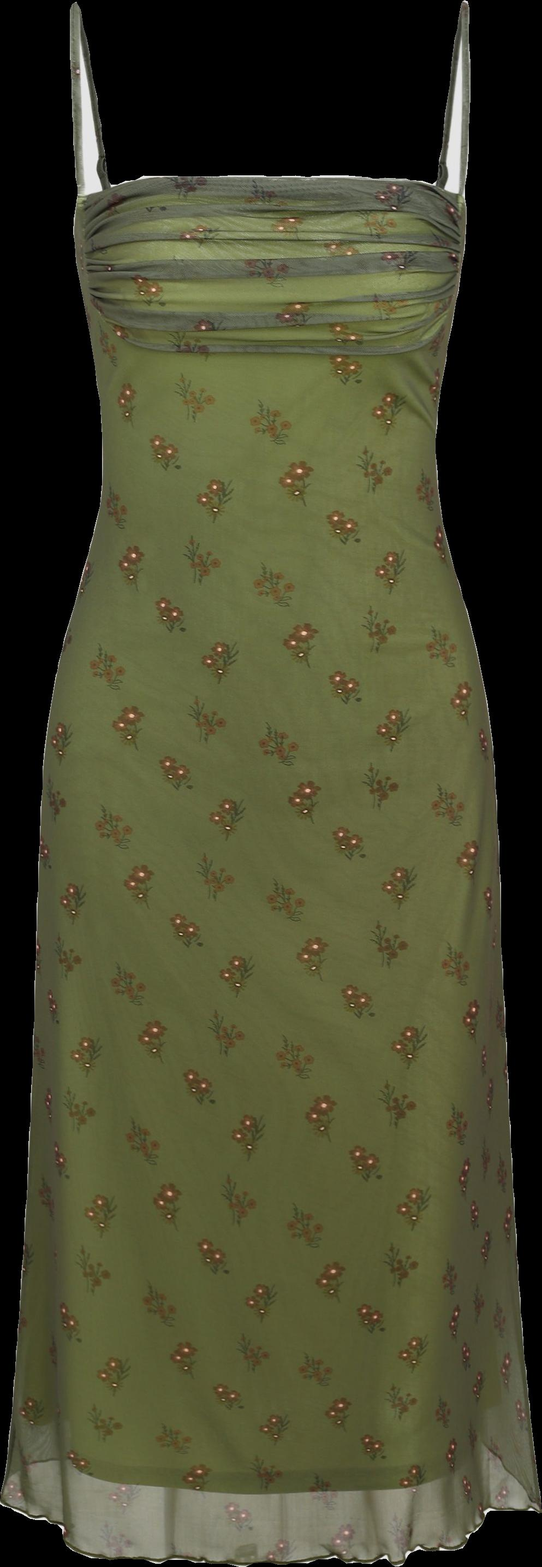Bodice: (69, 0, 470, 503)
Hemline: (0, 1488, 541, 1566)
Neckline: (67, 0, 474, 206), (78, 298, 453, 368)
Skirt: (1, 504, 541, 1564)
